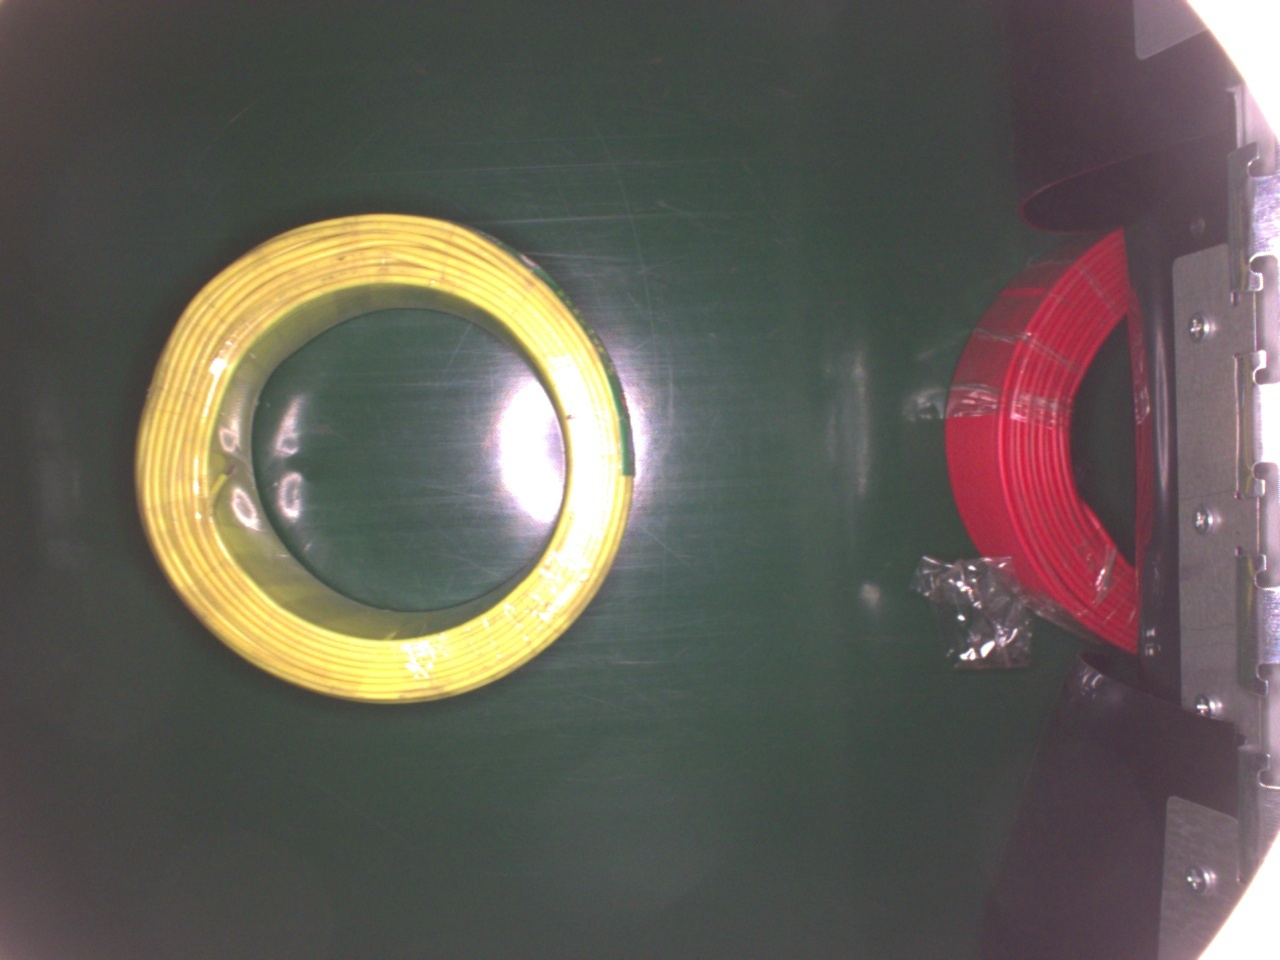red: (943, 220, 1141, 659)
yellow: (134, 209, 634, 708)
